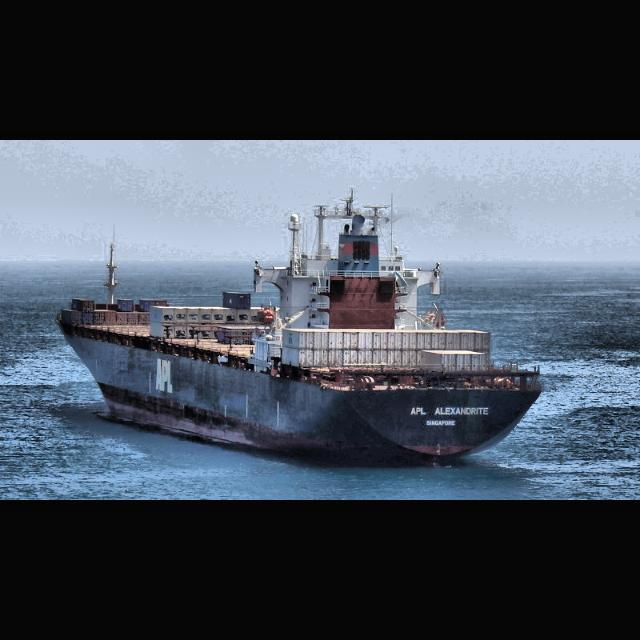container: (54, 188, 544, 470)
